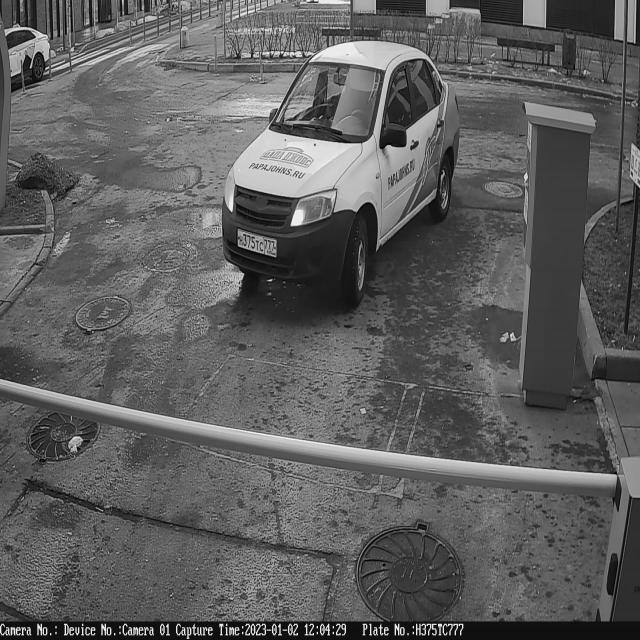car-plate-numbers: (236, 225, 280, 262)
